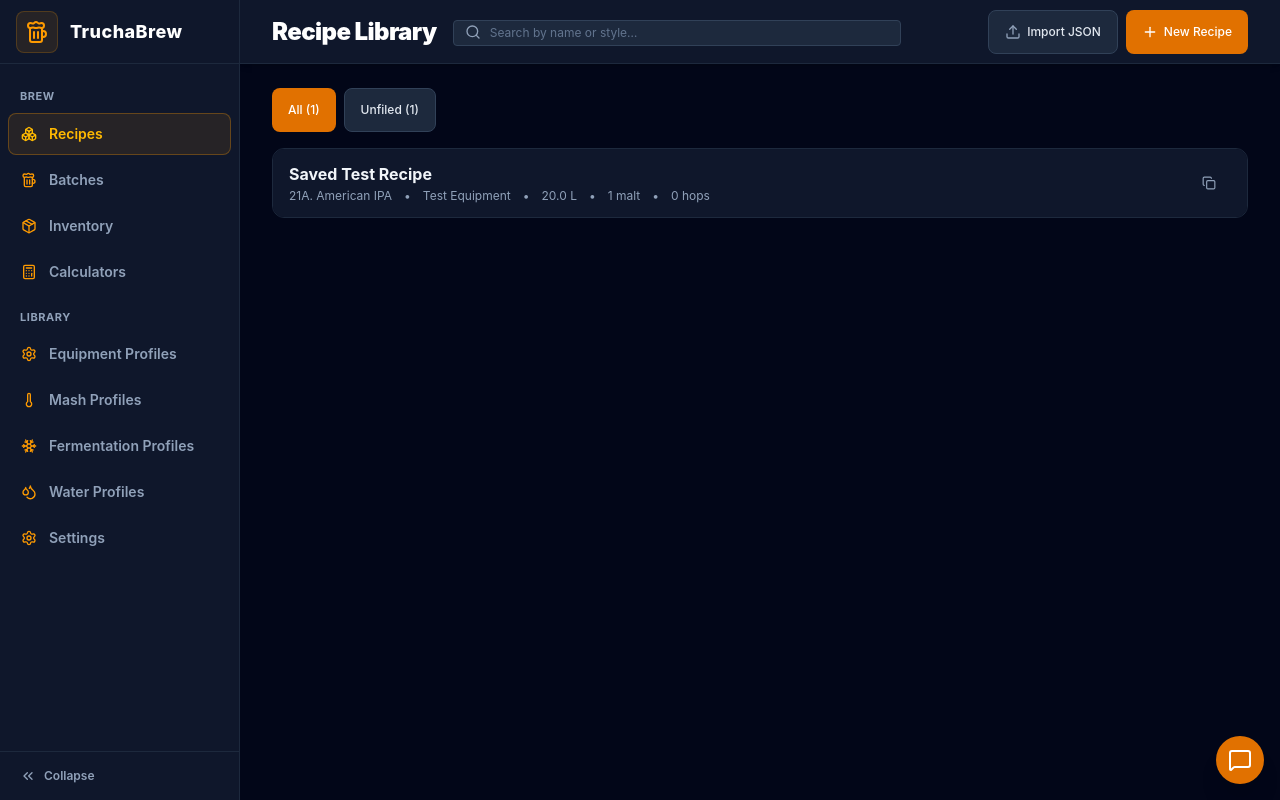
Test case: AC-1..AC-4: ingredient sections render as SectionCards (App editor) › recipe-fermentables is an h3 SectionCard titled "Fermentables & Malts"
This screenshot has width=1280, height=800.
Step 1. Click the text "Saved Test Recipe" → (360, 174), box [289,164,432,184]
(page scrolled)
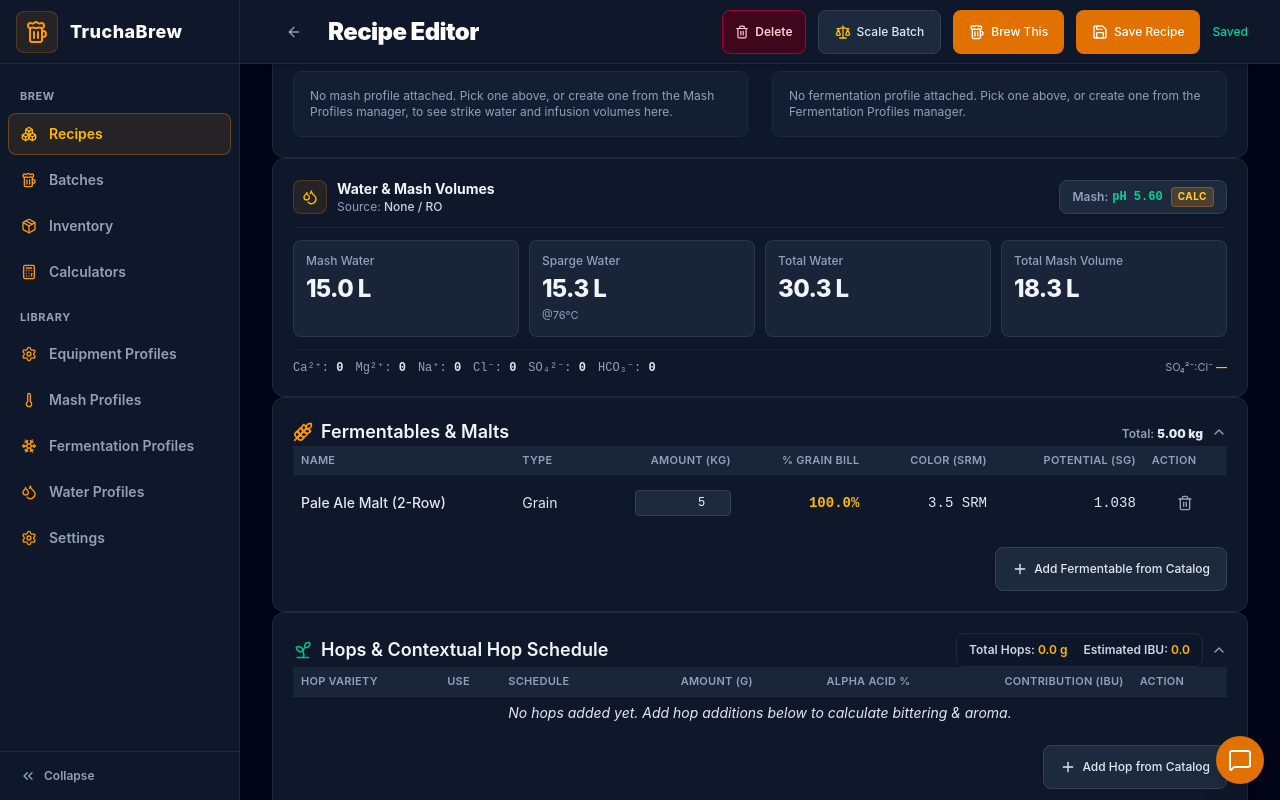
Check: the button "Brew This" is shown, box [953,10,1064,54]
Check: the element with test id "recipe-fermentables-section" is shown, box [272,396,1248,612]
Check: the heading "Fermentables & Malts Total: 5.00 kg" is shown, box [293,418,1227,446]
